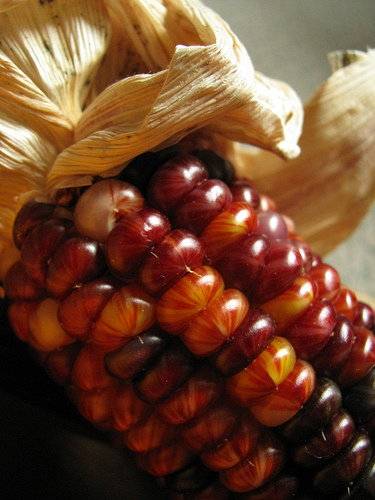corn: (0, 2, 373, 498)
